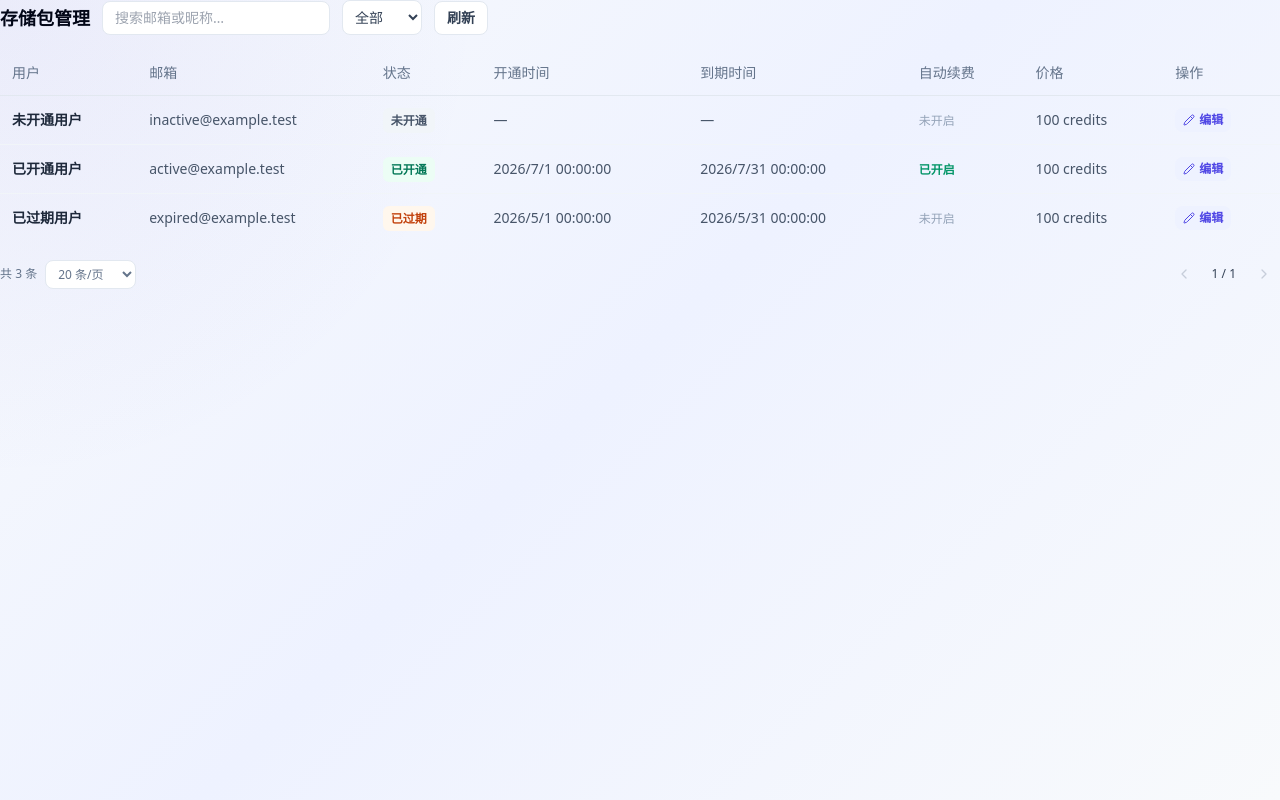
AdminStorageSubscriptions › shows an Admin Toast when an operation fails
Click the button "编辑" in the row of "未开通用户".
click(1203, 120)  # box 1175,108 -> 1231,132
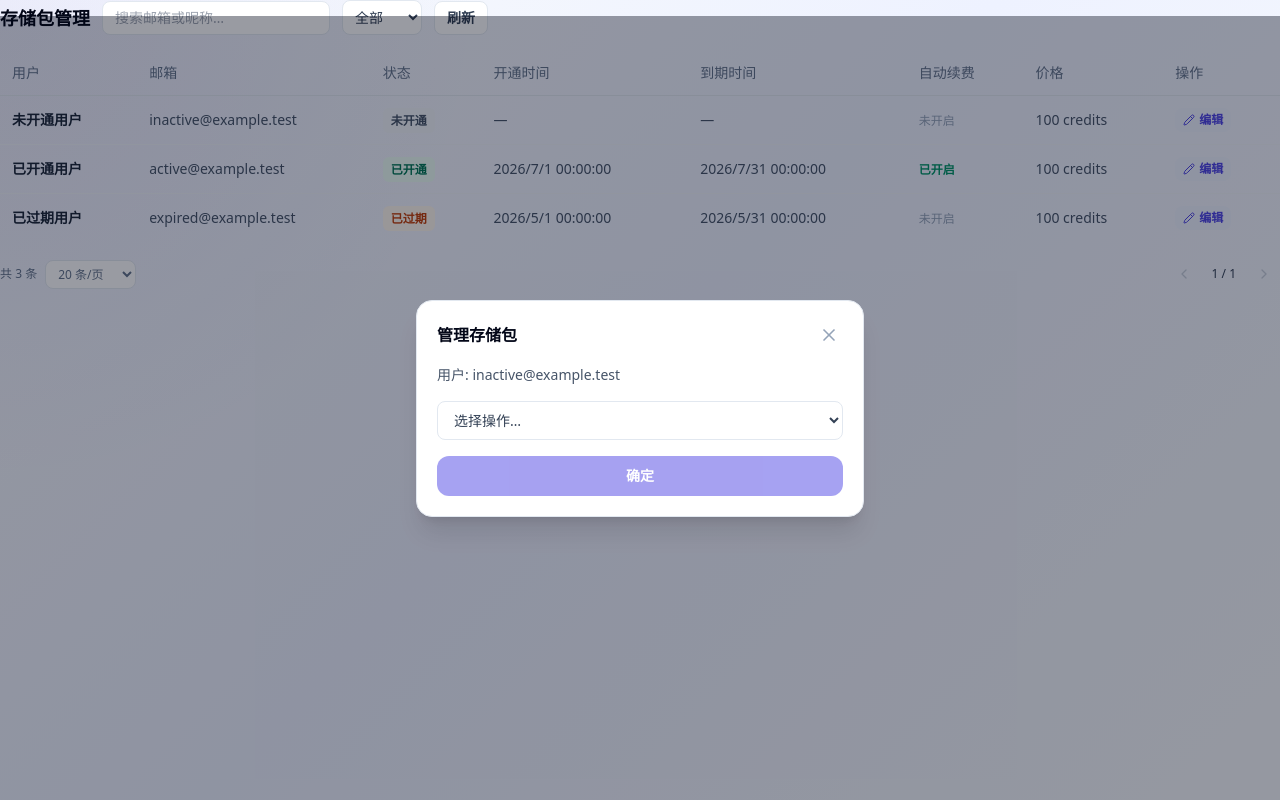
Expected: the dropdown is shown
Select "开通" in the dropdown at (640, 420), box 437,400 -> 843,440
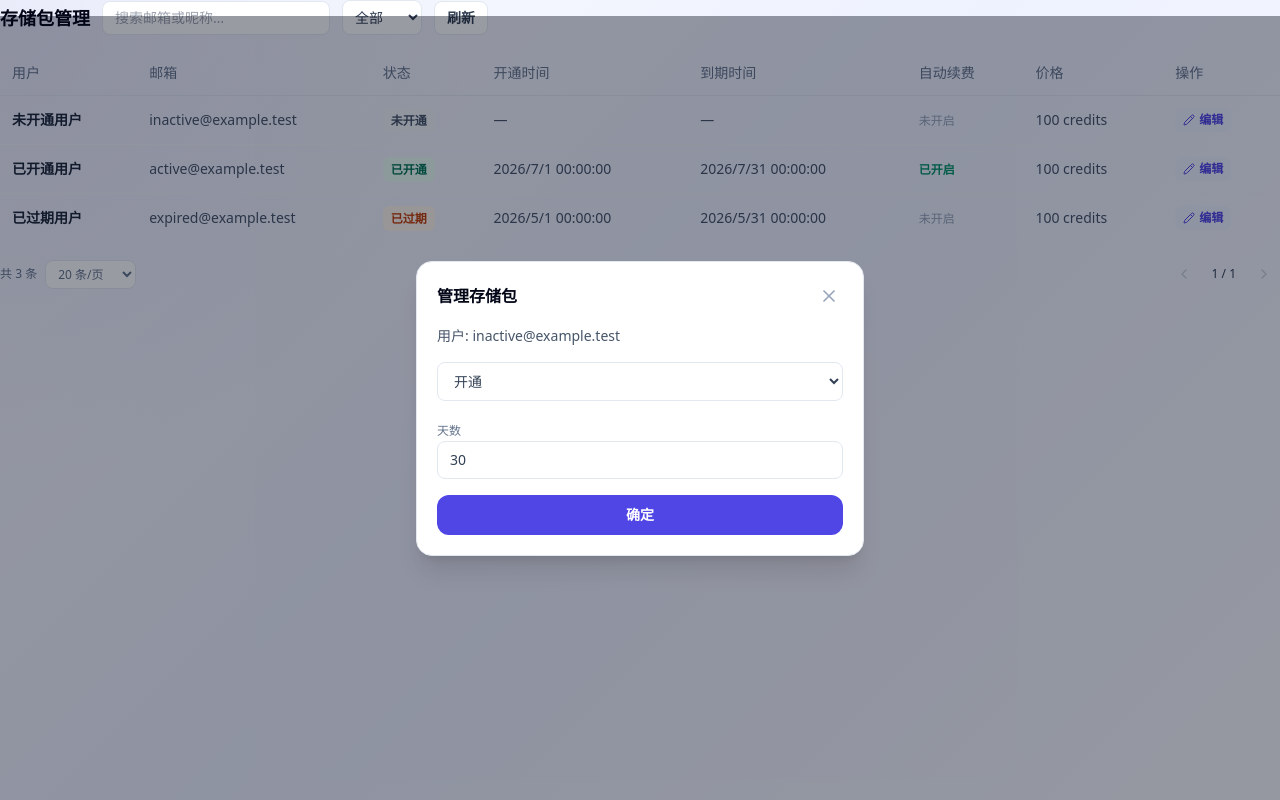
Click the button "确定".
click(640, 514)  # box 437,494 -> 843,534
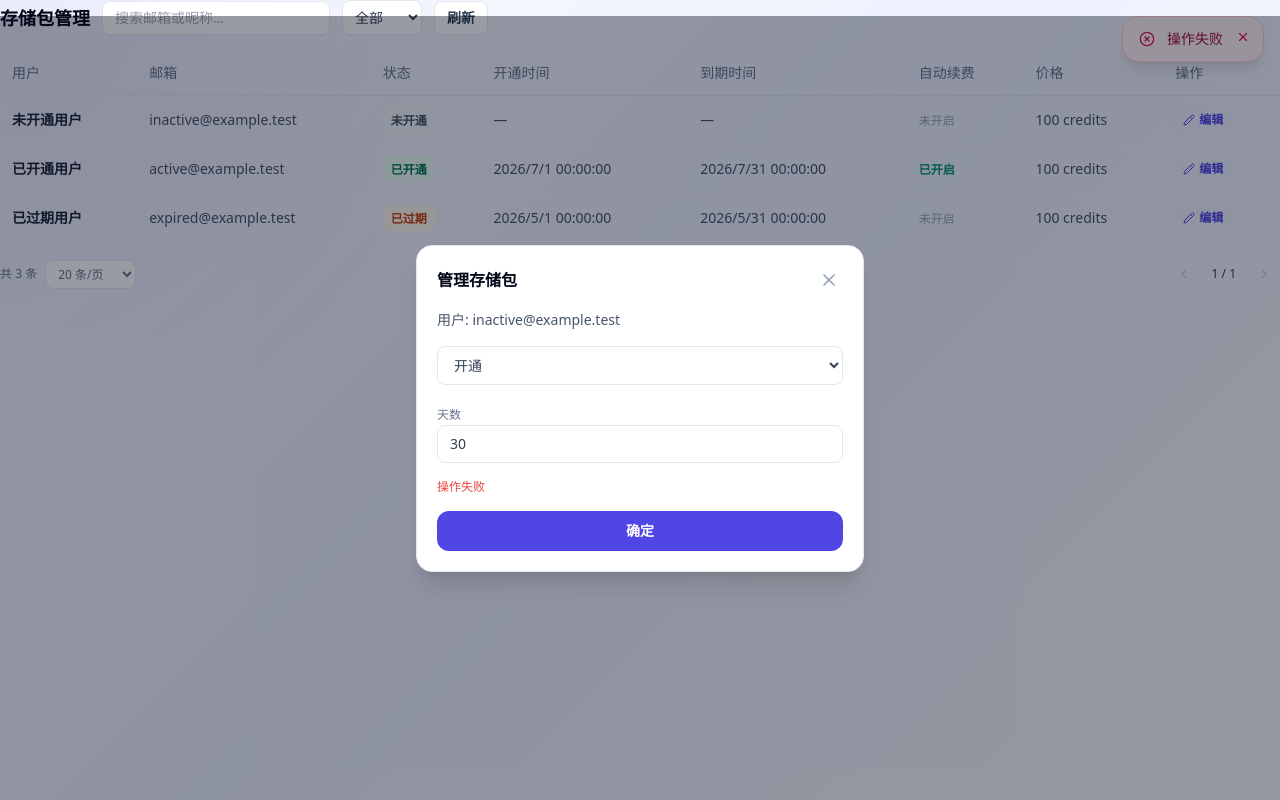
Expected: the message named "Notifications" is shown, 1122,16 -> 1264,62
Expected: the text "操作失败" is shown, 1167,29 -> 1223,49
